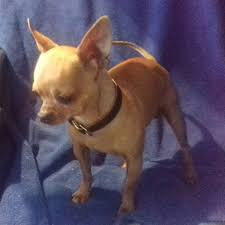chihuahua: (15, 8, 203, 203)
